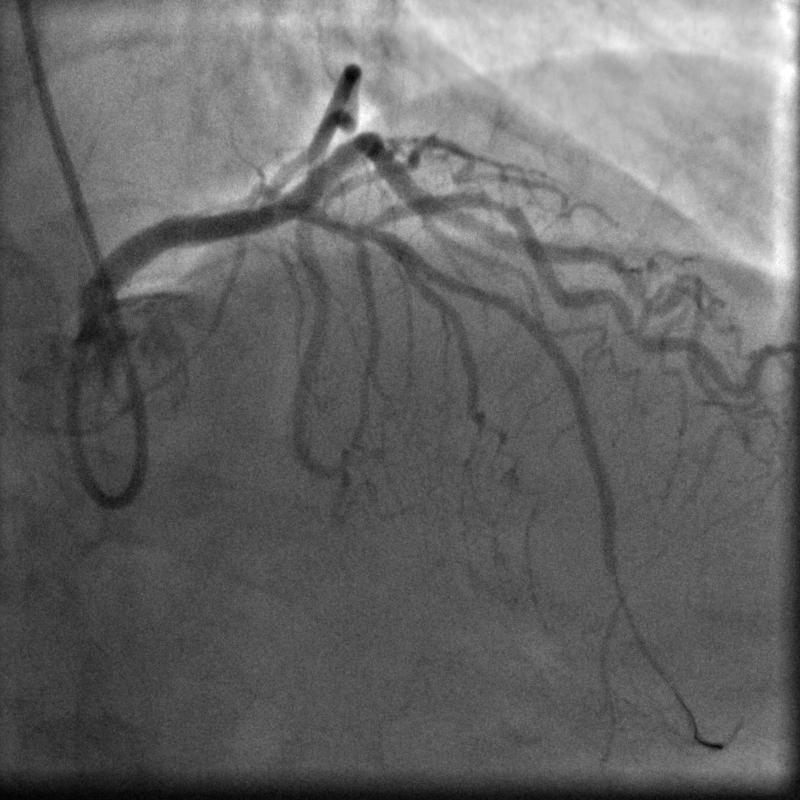Stenosis: (473, 183, 527, 221)
